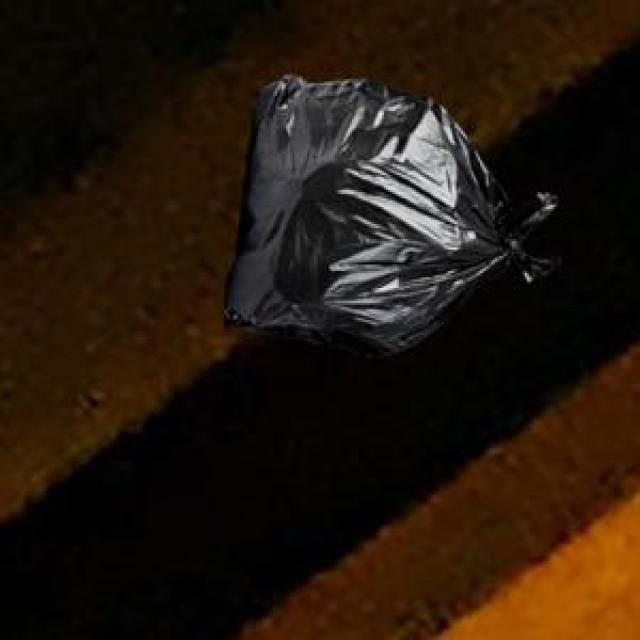waste: (226, 76, 556, 354)
